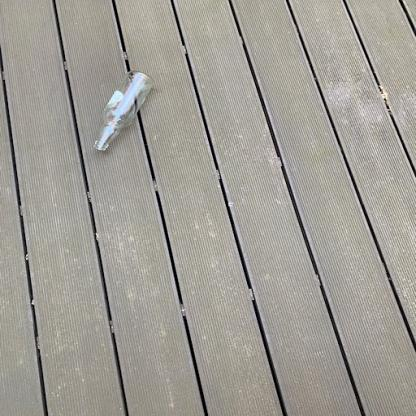trash: (87, 73, 161, 156)
